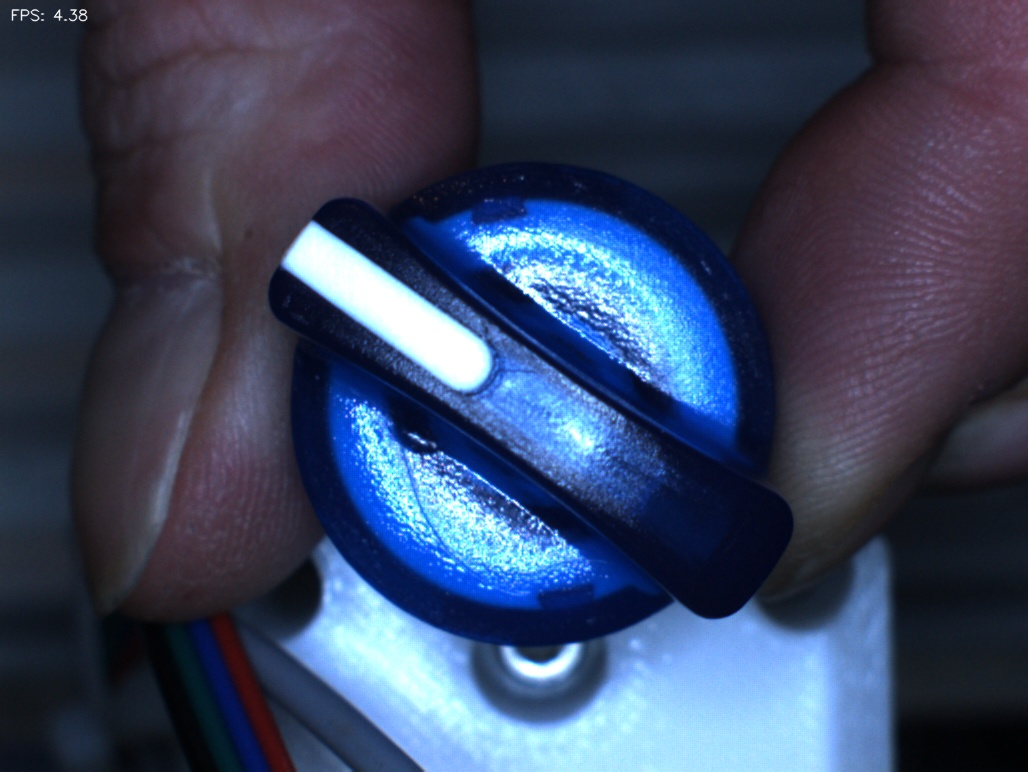Choc: (382, 395, 457, 470)
